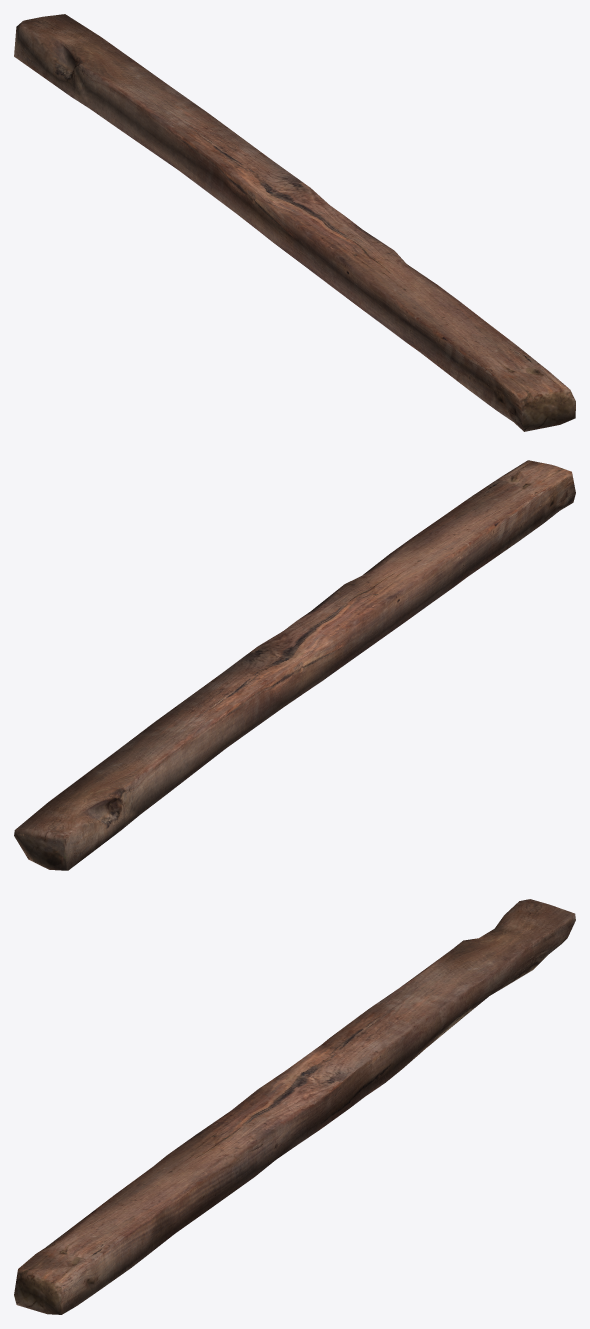
File: Wooden_Plank_001.fbx
3 views of the same model, one above another, from view 1: azimuth 30°, elevation 25°; view 2: azimuth 150°, elevation 25°; view 3: azimuth 330°, elevation 25° (orthographic).
Visible parts, largest first — view 1: ricaS_LOD0_TIER2_001; view 2: ricaS_LOD0_TIER2_001; view 3: ricaS_LOD0_TIER2_001.
Boxes of the visible parts, box(x1,y1,x2,y2) form: ricaS_LOD0_TIER2_001: box(14, 14, 575, 431); ricaS_LOD0_TIER2_001: box(14, 460, 575, 870); ricaS_LOD0_TIER2_001: box(14, 899, 575, 1314).
Bounding box in the file's own units: 0.0503 × 0.0375 × 0.8054.
